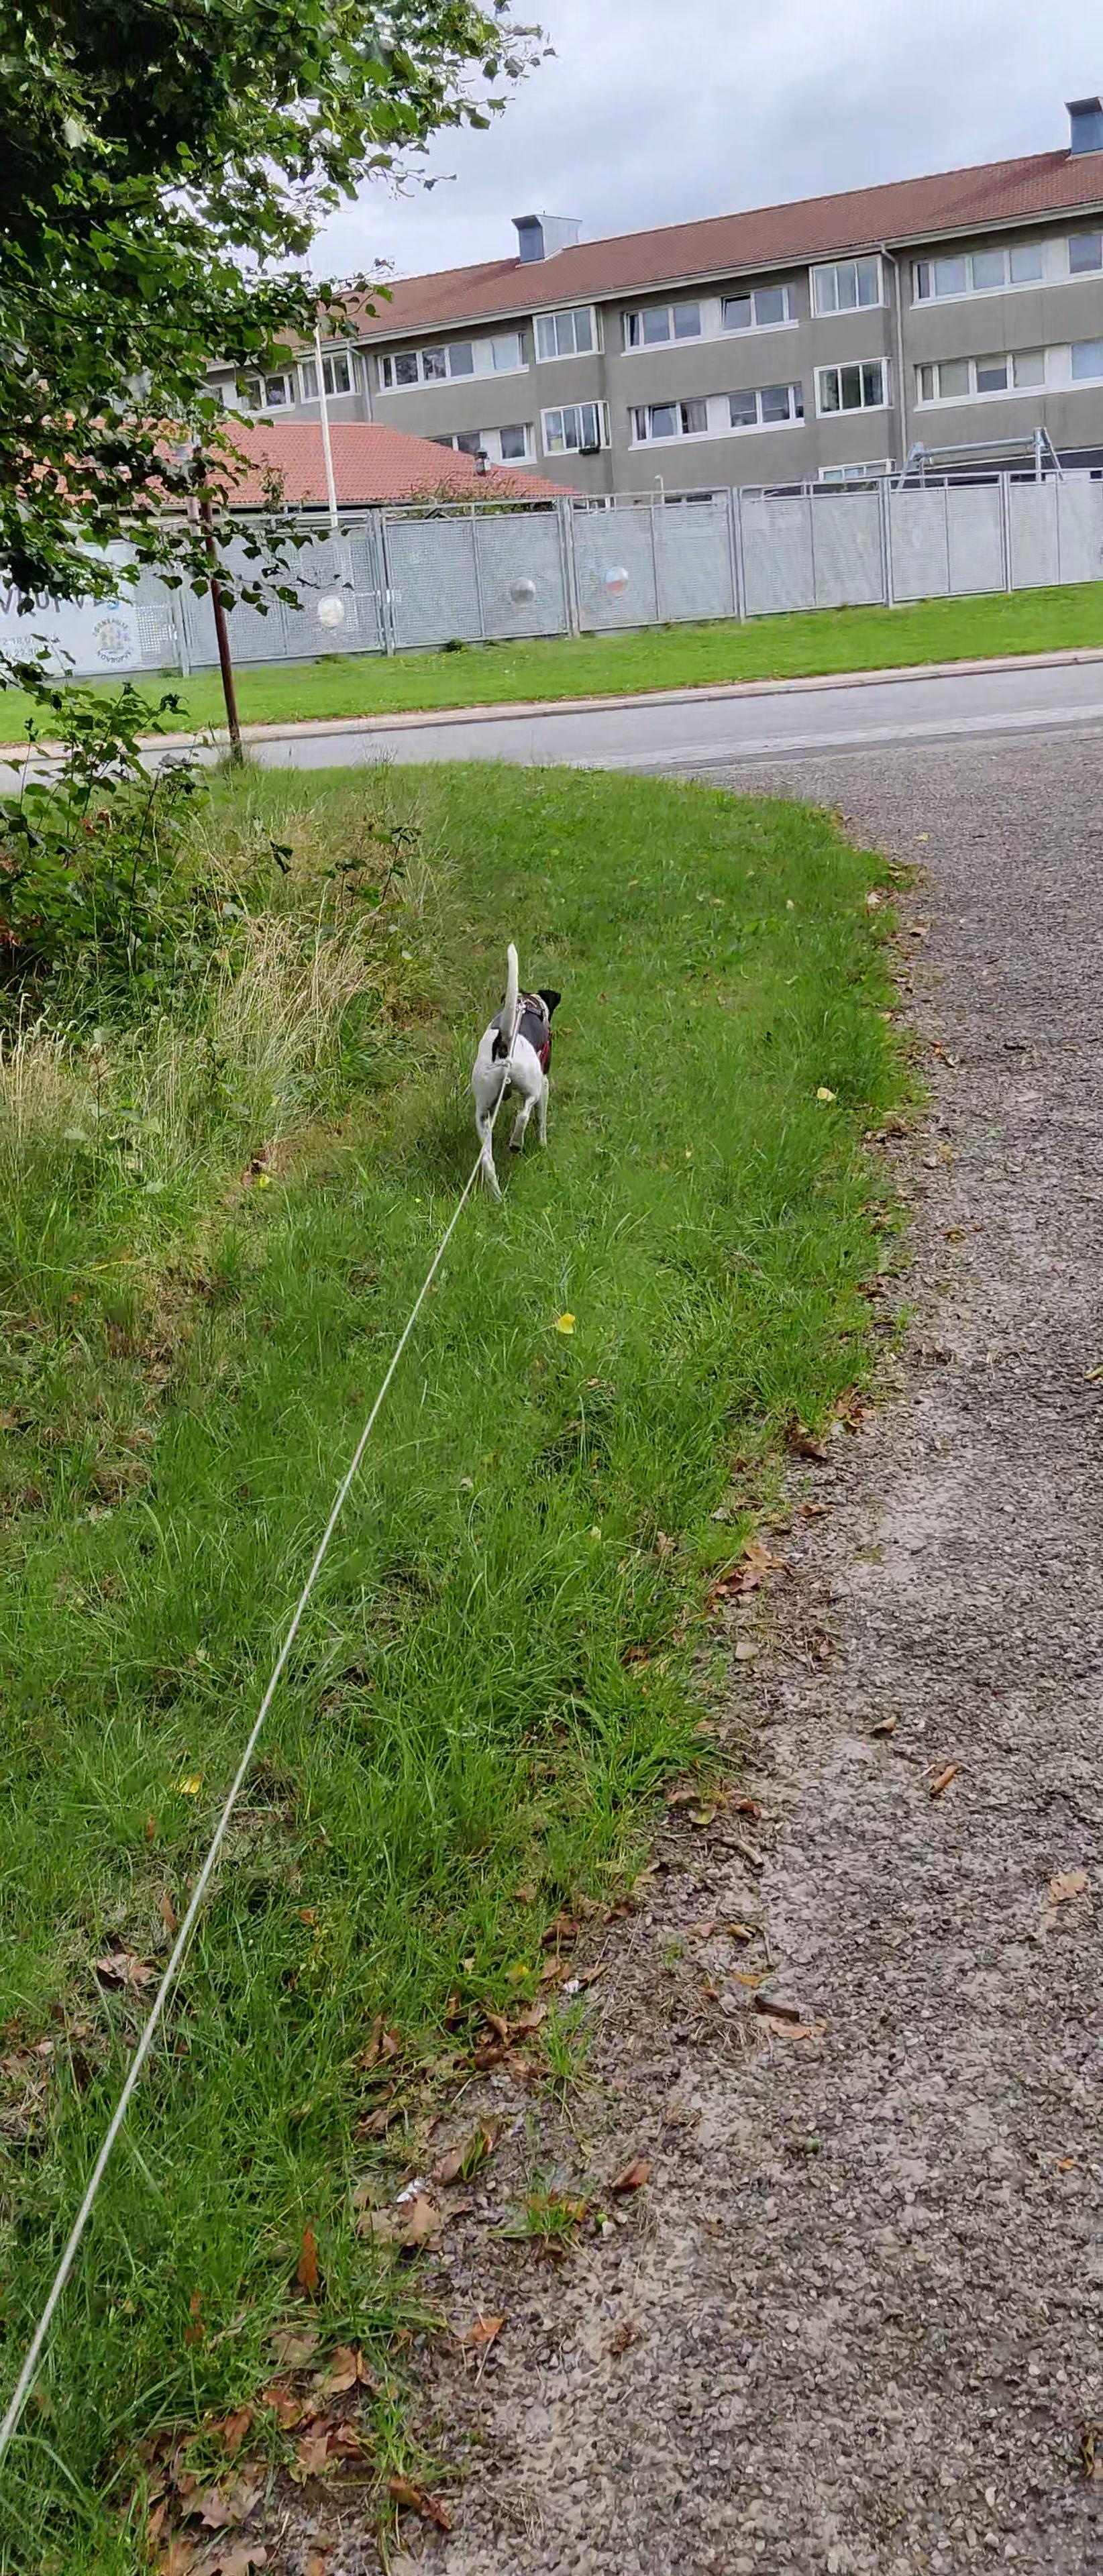Dog: (459, 925, 580, 1212)
